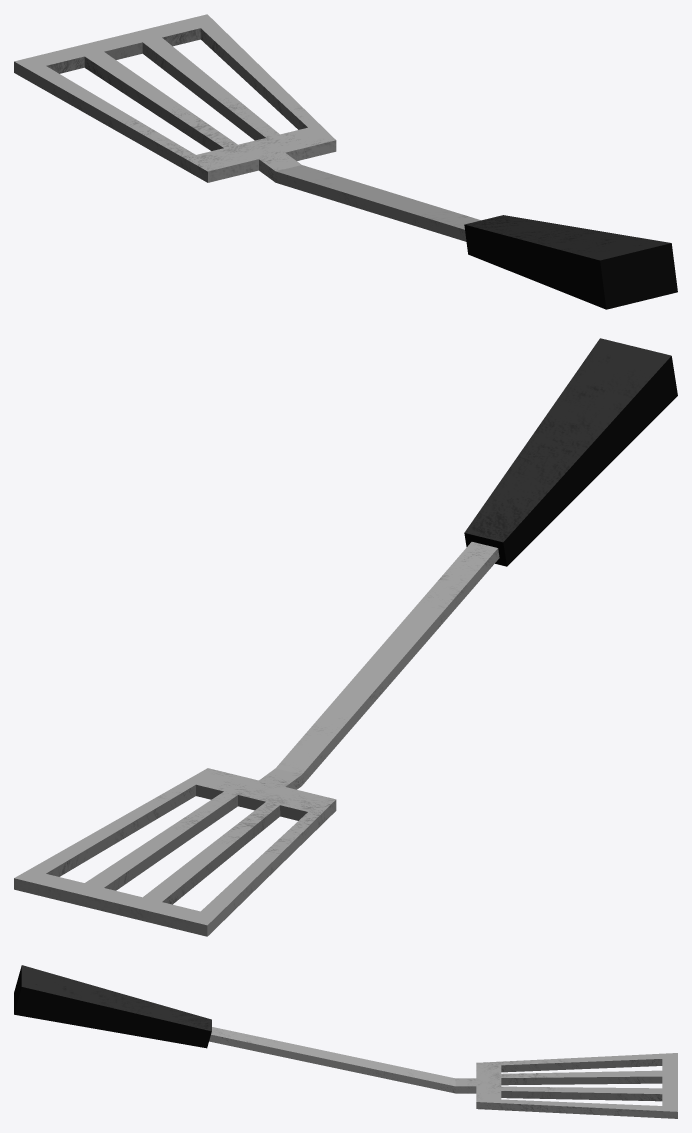
File: 뒤집개.fbx
3 renders of one model, top to bottom at view 1: azimuth 30°, elevation 25°; view 2: azimuth 150°, elevation 25°; view 3: azimuth 270°, elevation 25°, orthographic. The views are drawn at different scales.
Parts seen in each view (by area): view 1: Plane; view 2: Plane; view 3: Plane.
Boxes of the visible parts, x1,y1,x2,y2 form: Plane: [14, 14, 677, 309]; Plane: [14, 338, 677, 936]; Plane: [14, 965, 677, 1118].
Size of the model in its own units: 207 by 186 by 987.
Materials: 1 (1 with a texture image).
